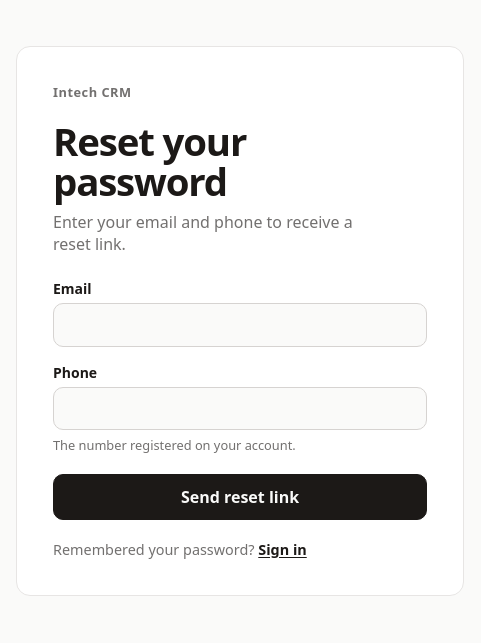
Test case: ForgotPasswordPage › falha da API aparece como alerta de formulário
In the field labelled "Email": point(240, 325) [53, 303, 427, 347], type "ada@example.com"
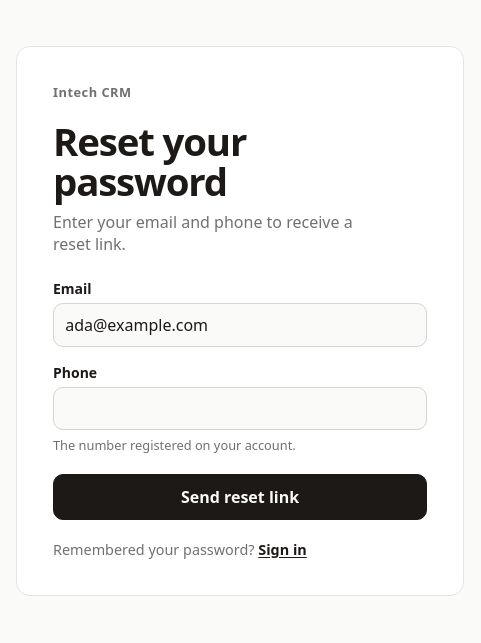
In the field labelled "Phone": point(240, 409) [53, 387, 427, 430], type "+5511988887777"
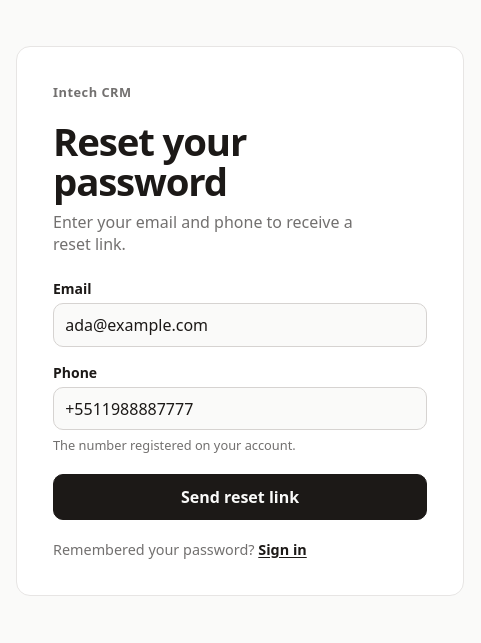
Click the button "Send reset link": point(240, 497) [53, 474, 427, 520]
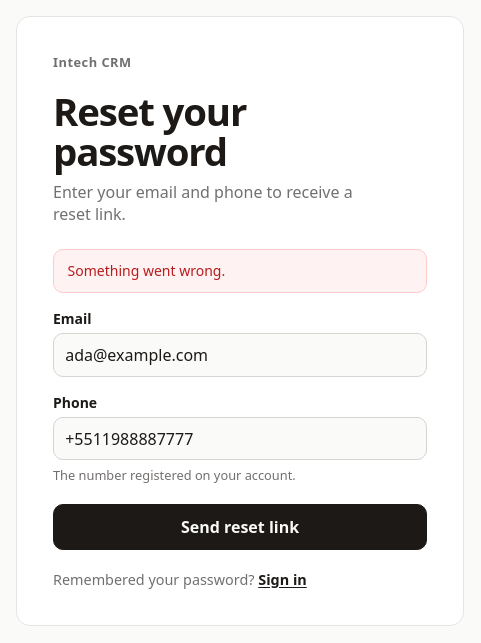
Expected: the message "Something went wrong." is shown, [53, 249, 427, 293]
